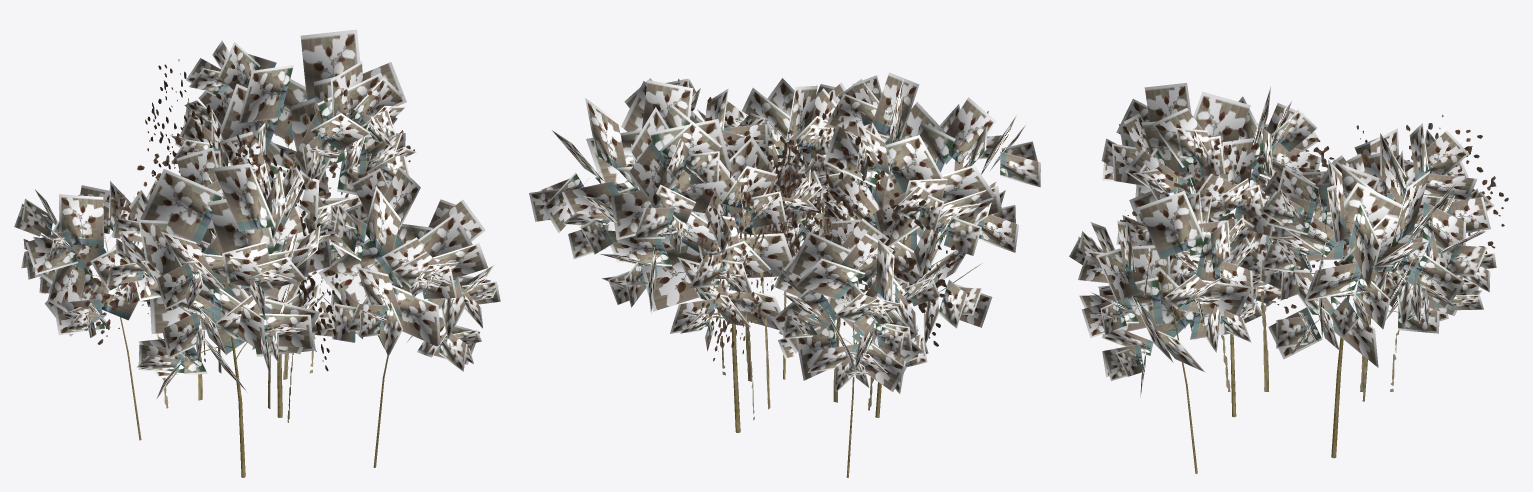
The model's file is Shrub1-5D.fbx.
3 renders of one model, left to right at view 1: azimuth 30°, elevation 25°; view 2: azimuth 150°, elevation 25°; view 3: azimuth 270°, elevation 25°, orthographic. The views are drawn at different scales.
Visible parts, largest first — view 1: Shrub1-5D_LOD0, Billboard-Shrub1-5D; view 2: Shrub1-5D_LOD0, Billboard-Shrub1-5D; view 3: Shrub1-5D_LOD0, Billboard-Shrub1-5D.
Boxes of the visible parts, x1=… form: Shrub1-5D_LOD0: x1=14, y1=29, x2=500, y2=477; Billboard-Shrub1-5D: x1=73, y1=59, x2=414, y2=422; Shrub1-5D_LOD0: x1=529, y1=72, x2=1040, y2=477; Billboard-Shrub1-5D: x1=678, y1=79, x2=963, y2=420; Shrub1-5D_LOD0: x1=1069, y1=83, x2=1496, y2=473; Billboard-Shrub1-5D: x1=1123, y1=114, x2=1508, y2=391.
Size of what is drawn, in the model's own units: 477 by 420 by 500.
